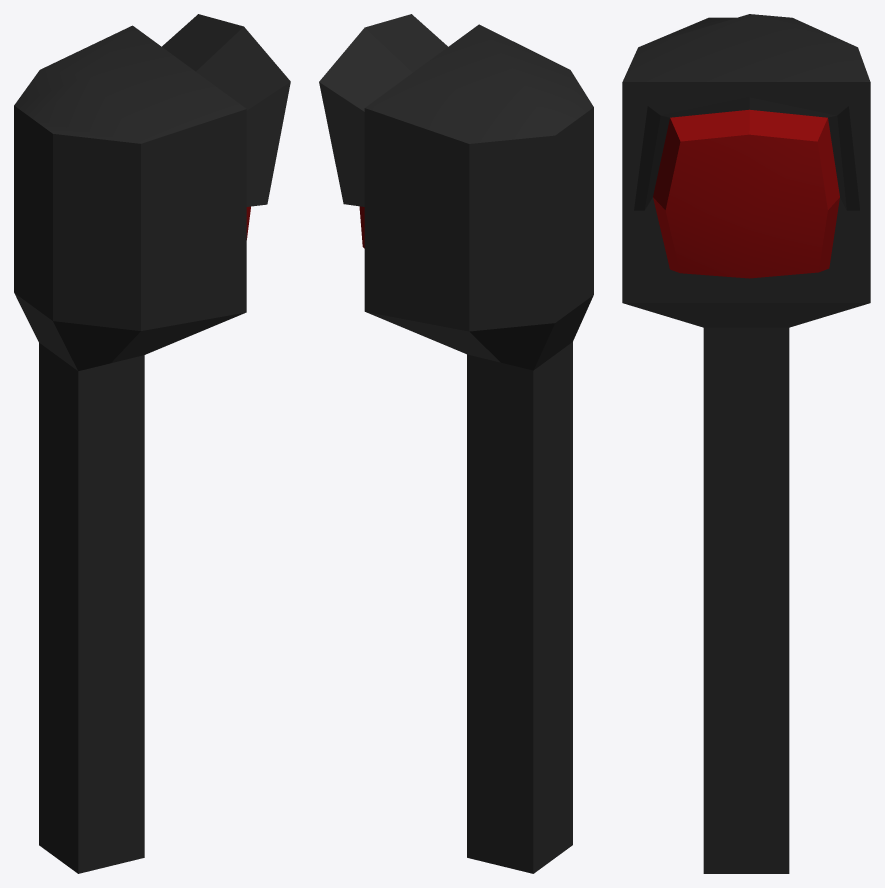
The model's file is feu_rouge.FBX.
The picture shows the model from 3 angles, left to right: view 1: azimuth 30°, elevation 25°; view 2: azimuth 150°, elevation 25°; view 3: azimuth 270°, elevation 25°; orthographic projection. The views are drawn at different scales.
Visible parts, largest first — view 1: feu; view 2: feu; view 3: feu.
Boxes of the visible parts, <box> form: feu: <box>14,14,290,873</box>; feu: <box>319,14,593,873</box>; feu: <box>622,14,870,873</box>.
Size of the model in its own units: 1.95 by 6.97 by 1.83.
